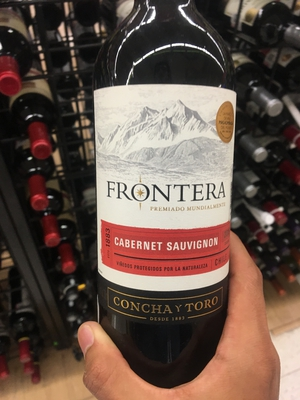frontera cabernet sauvignon: (78, 28, 259, 383)
